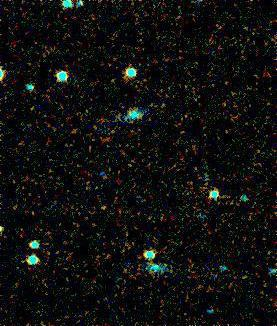star: (87, 197, 117, 227)
